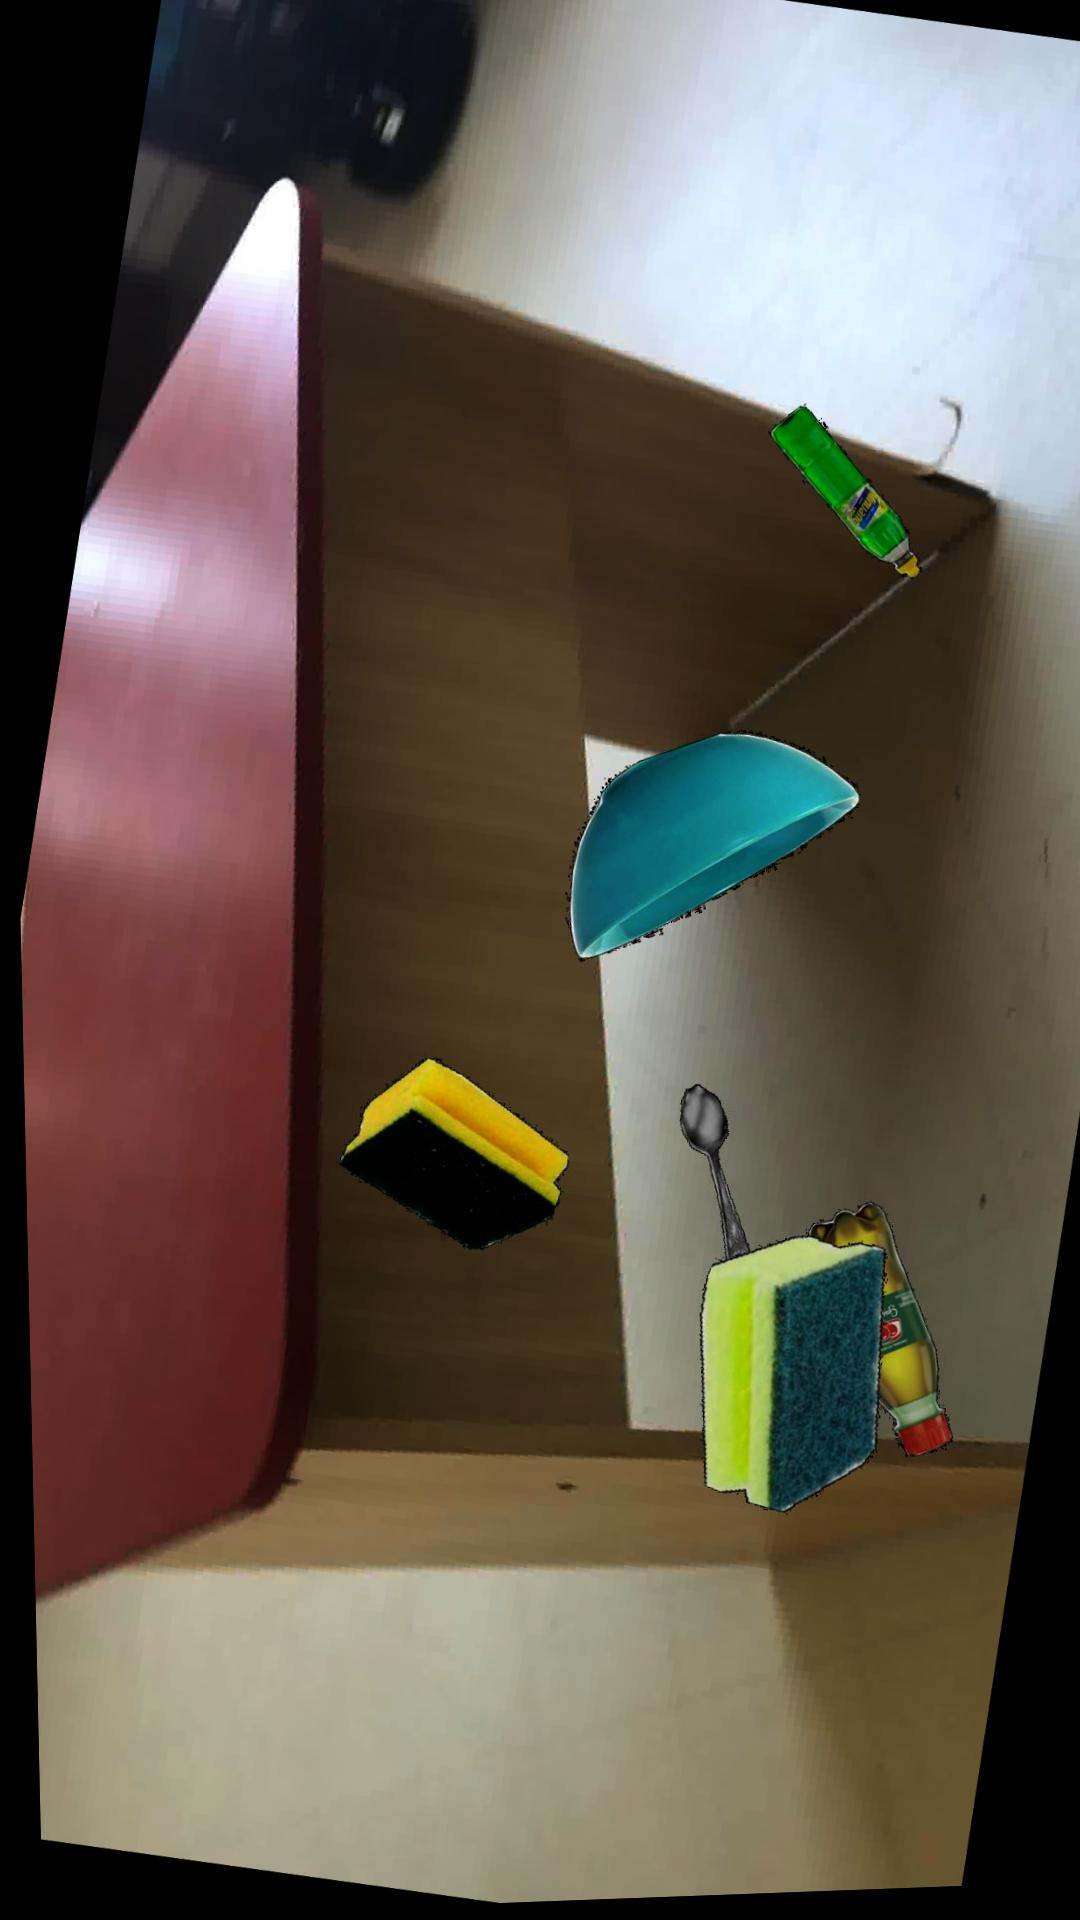bowl: (564, 736, 857, 964)
cleaner: (767, 410, 920, 584)
guarana: (803, 1205, 947, 1461)
sponge: (694, 1240, 882, 1516), (334, 1059, 564, 1251)
spoon: (675, 1087, 745, 1262)
